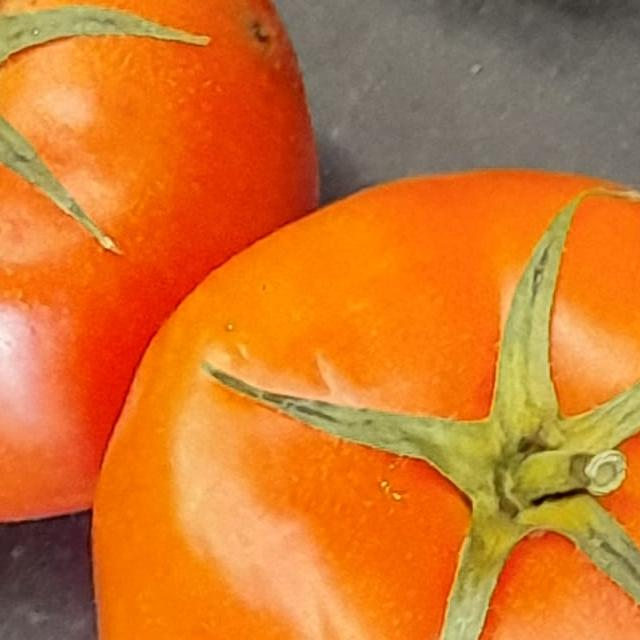tomato: (96, 73, 640, 640), (0, 0, 363, 553)
